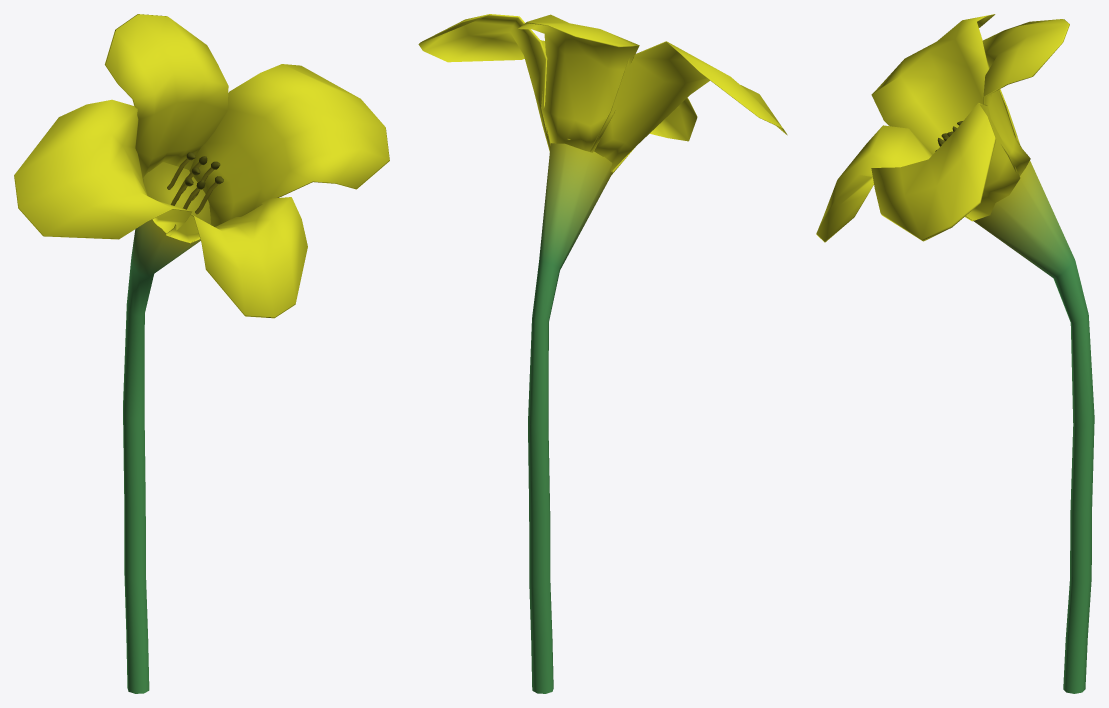
File: AntonioCenarioFase1.fbx_FlorAmarela.fbx
3 views of the same model, side by side, from view 1: azimuth 30°, elevation 25°; view 2: azimuth 150°, elevation 25°; view 3: azimuth 270°, elevation 25° (orthographic). The views are drawn at different scales.
Visible parts, largest first — view 1: FlorAmarela; view 2: FlorAmarela; view 3: FlorAmarela.
Part boxes in pixels (box(x1,y1,x2,y2)): FlorAmarela: box(14, 14, 389, 693); FlorAmarela: box(418, 14, 787, 693); FlorAmarela: box(816, 14, 1094, 693).
Size of the model in its own units: 189 by 332 by 126.
